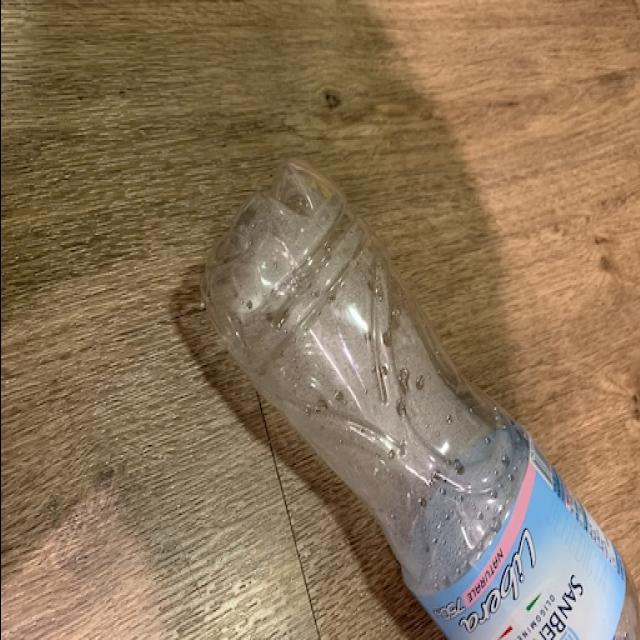litter: (192, 148, 634, 638)
